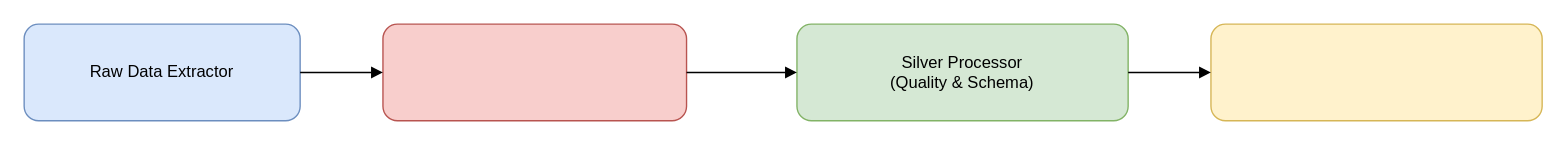
The diagram is 1566 pixels wide and 145 high, and some of its shapes have lost their labels. The shapes that lost their labels are listed below. From the top down, each one's centre as x and y in pixels, then its label:
At [534,72]: "Bronze Ingestion (Delta Writer)".
At [1376,72]: "Gold Aggregation (Analytics Ready)".
